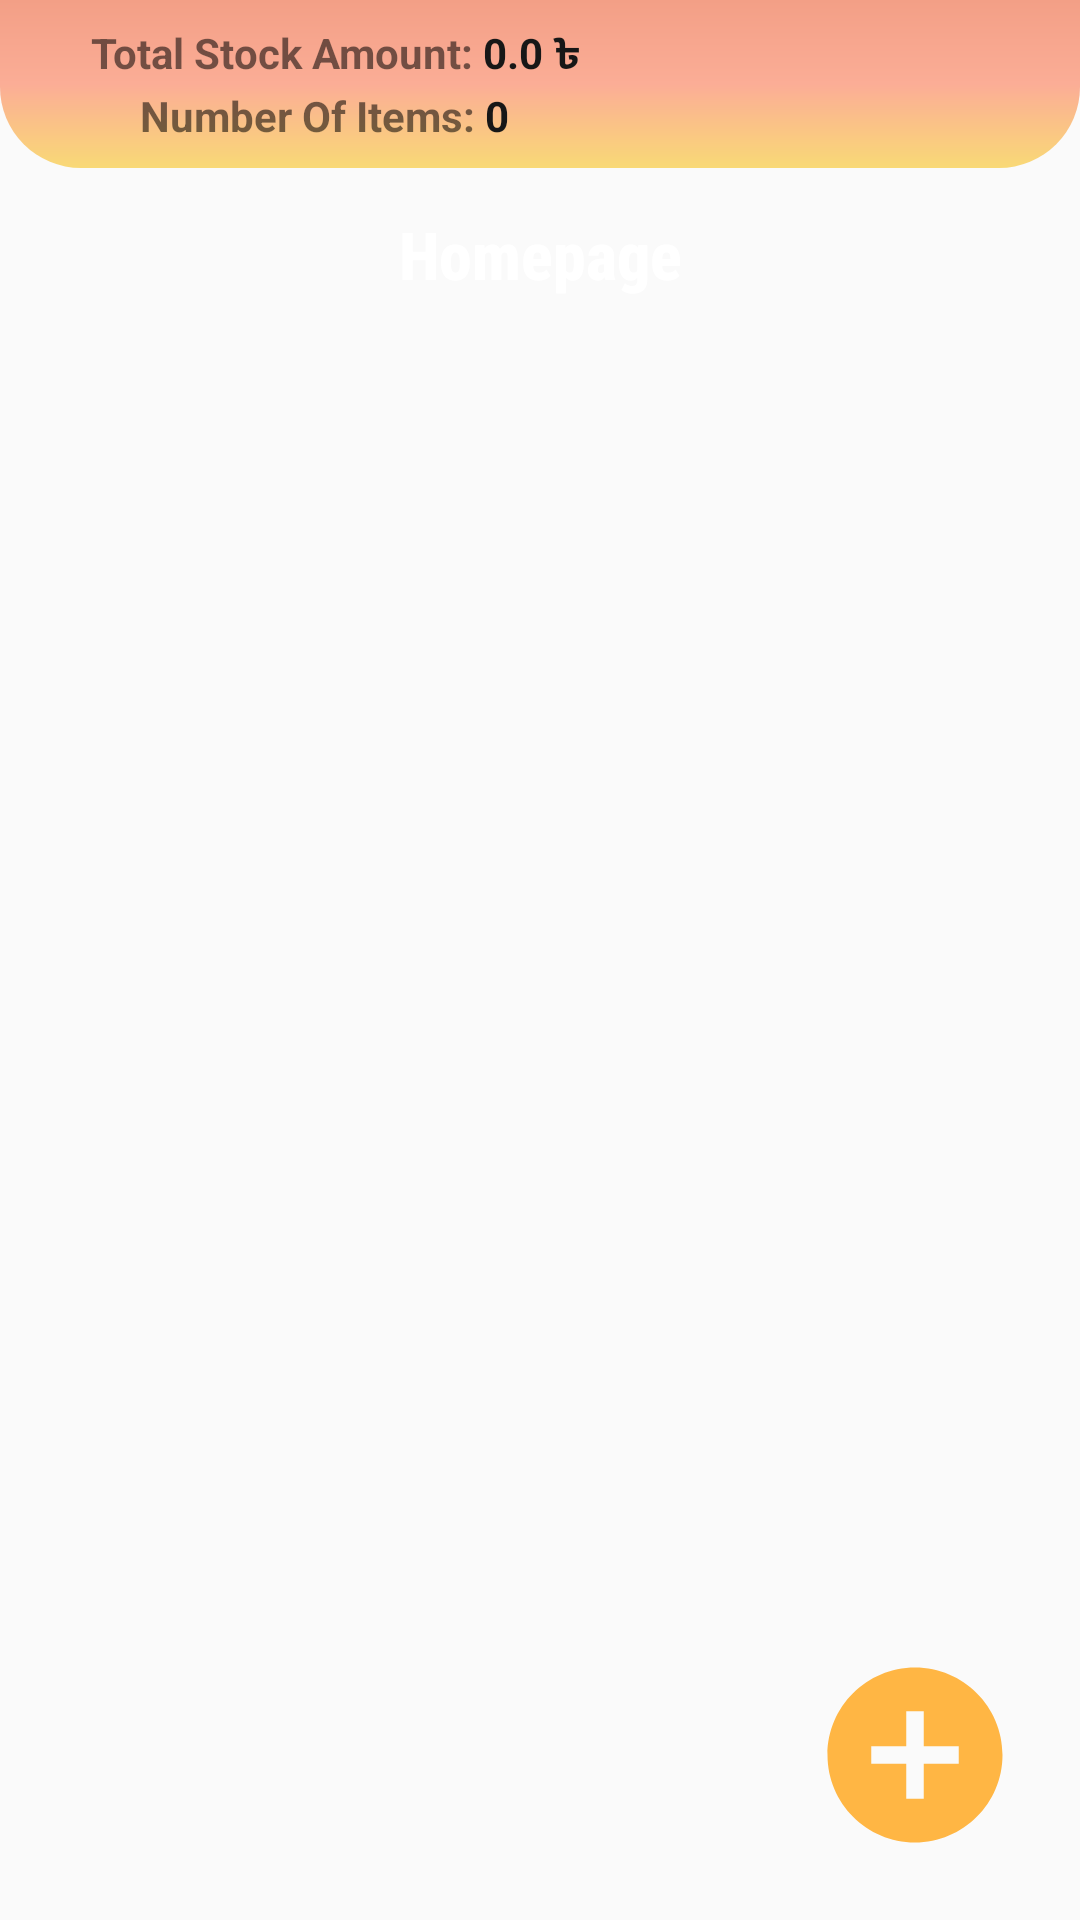

Locate icon controls on the screen. Image size 1080×1920, boxes as BBox(x1, y1, x2, y2).
add circle: BBox(827, 1667, 1003, 1843)
